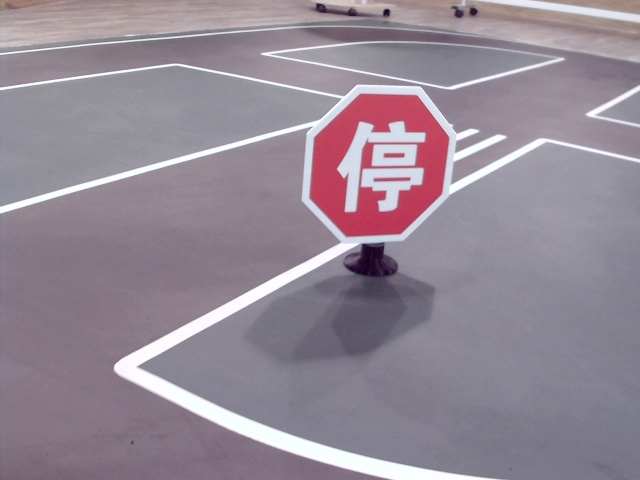stop: (338, 122, 423, 212)
